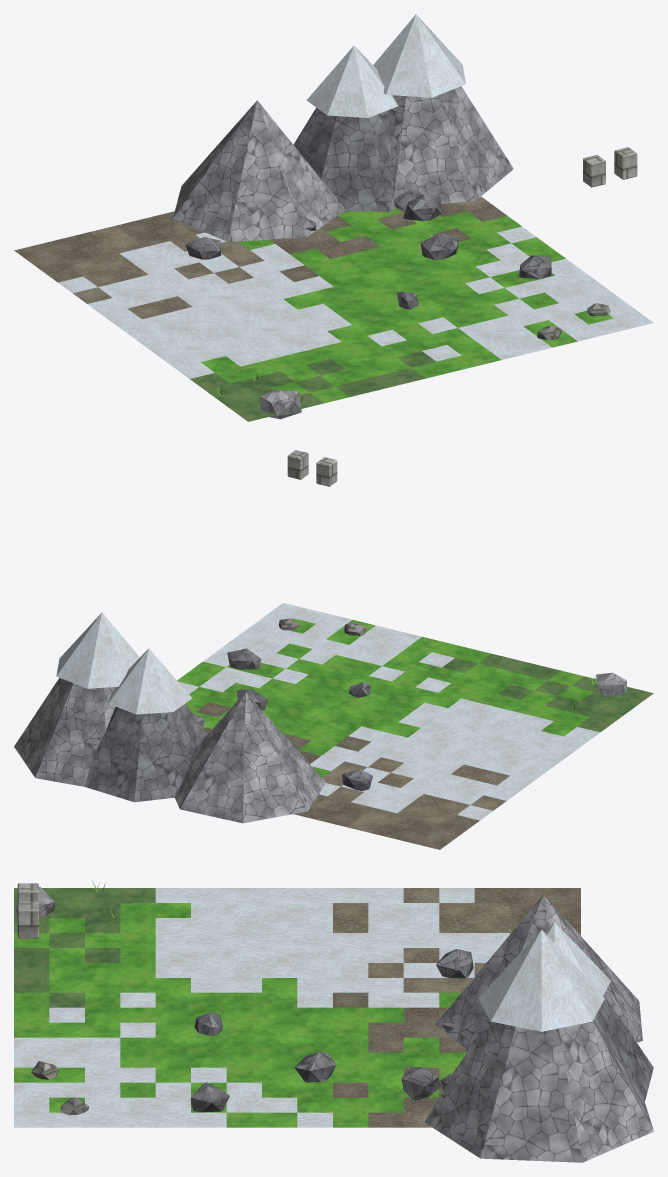
The model's file is chunk_6_1.glb.
3 renders of one model, top to bottom at view 1: azimuth 30°, elevation 25°; view 2: azimuth 150°, elevation 25°; view 3: azimuth 270°, elevation 25°, orthographic. The views are drawn at different scales.
Visible parts, largest first — view 1: chunk_6_1; view 2: chunk_6_1; view 3: chunk_6_1.
Part boxes in pixels (bbox=[...]): chunk_6_1: bbox=[14, 14, 653, 421]; chunk_6_1: bbox=[14, 450, 653, 849]; chunk_6_1: bbox=[14, 881, 653, 1162].
Bounding box in the file's own units: 18.35 × 6.99 × 18.06.
10 materials, 9 textured.
